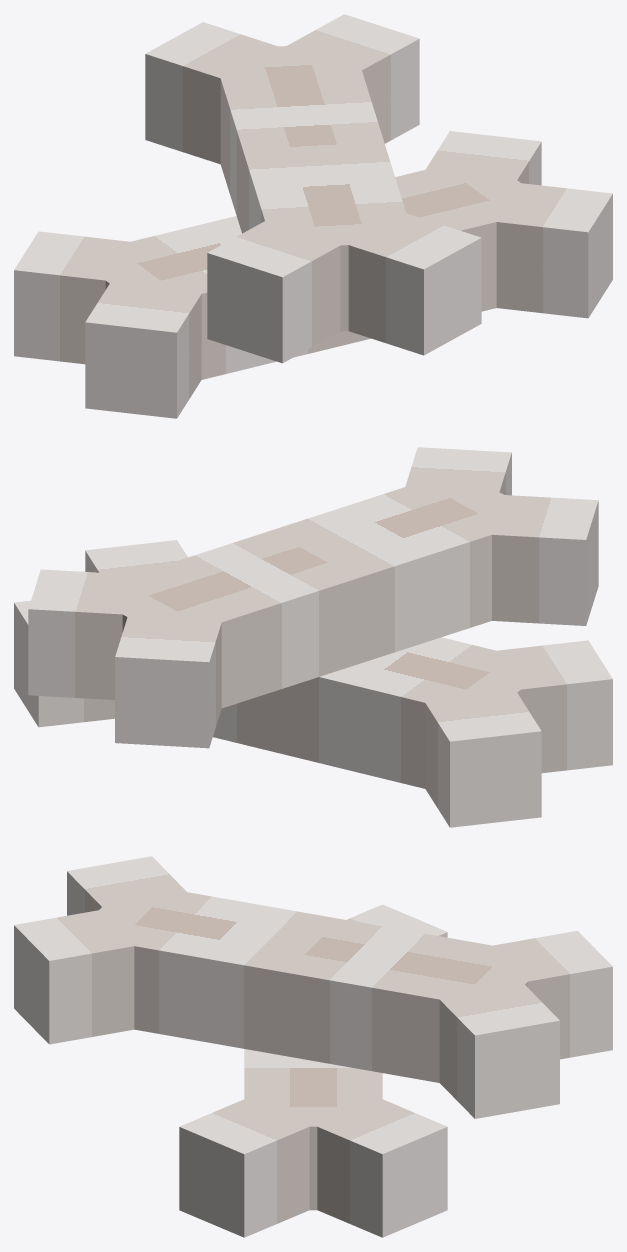
The model's file is bones.gltf.
3 renders of one model, top to bottom at view 1: azimuth 30°, elevation 25°; view 2: azimuth 150°, elevation 25°; view 3: azimuth 270°, elevation 25°, orthographic. The views are drawn at different scales.
Visible parts, largest first — view 1: cube (×10); view 2: cube (×10); view 3: cube (×9).
Boxes of the visible parts, left/top/right/bottom form: cube (×10): left=14, top=14, right=612, bottom=418; cube (×10): left=14, top=447, right=612, bottom=827; cube (×9): left=14, top=856, right=612, bottom=1237.
Size of the model in its own units: 0.8018 by 0.25 by 0.8125.
Materials: 1 (1 with a texture image).
